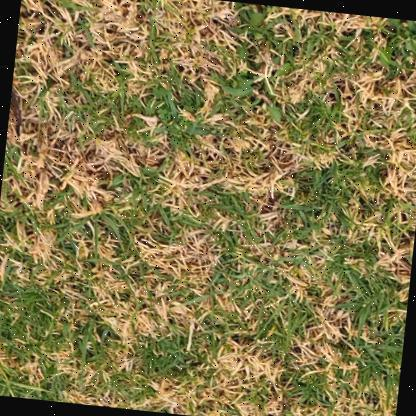Weeds: (221, 47, 295, 121)
